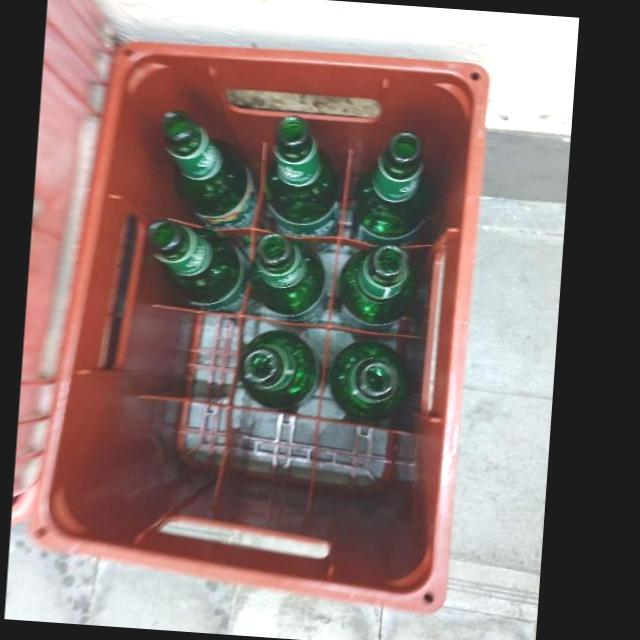chai_thuy_tinh: (159, 110, 257, 228), (260, 116, 339, 237), (147, 220, 247, 313), (349, 132, 429, 246), (327, 342, 409, 427), (237, 330, 321, 411), (337, 245, 415, 330), (252, 233, 325, 323)
